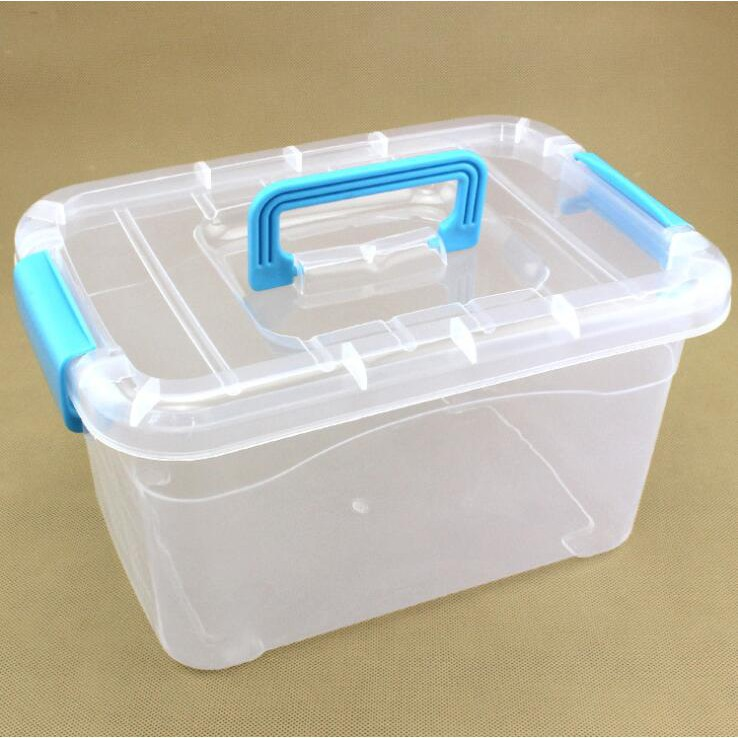plastic: (10, 115, 738, 674)
